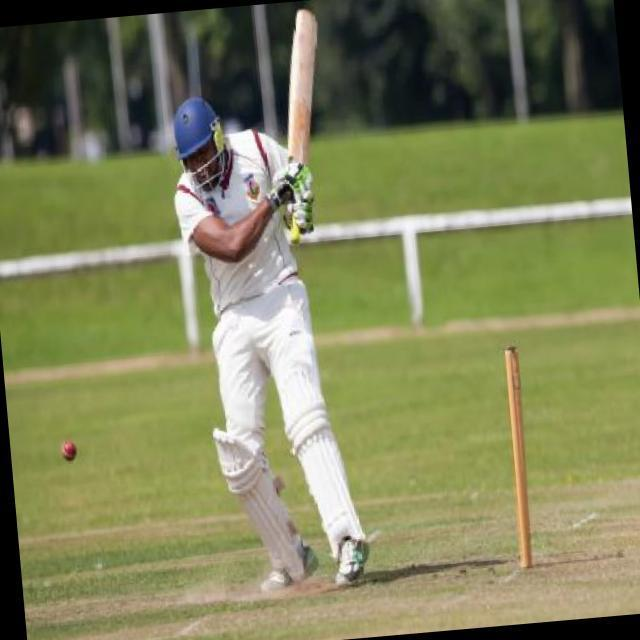-: (52, 427, 87, 474)
